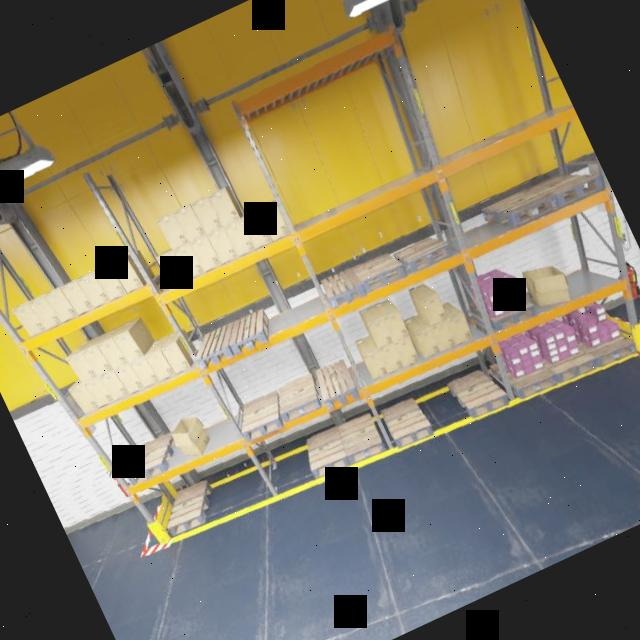box: (520, 253, 576, 314), (167, 409, 216, 465), (358, 297, 408, 349), (410, 279, 447, 325), (356, 335, 388, 381), (111, 254, 145, 295), (406, 314, 438, 355), (11, 299, 43, 339), (209, 187, 241, 225), (242, 211, 273, 250), (174, 203, 205, 241), (94, 263, 124, 302), (157, 212, 188, 249), (68, 380, 99, 416), (226, 219, 256, 256), (259, 202, 289, 239), (114, 330, 144, 365), (98, 368, 128, 403), (193, 197, 222, 233), (157, 250, 186, 286), (192, 236, 221, 272), (209, 228, 238, 264), (79, 272, 108, 307), (63, 281, 91, 315), (175, 244, 203, 278), (162, 341, 191, 373), (46, 289, 74, 322), (67, 350, 95, 383), (130, 355, 158, 388), (31, 296, 57, 330), (447, 313, 474, 345), (85, 345, 112, 376), (98, 339, 125, 369), (118, 363, 142, 394), (87, 376, 110, 407), (396, 336, 420, 365), (381, 344, 405, 372)
